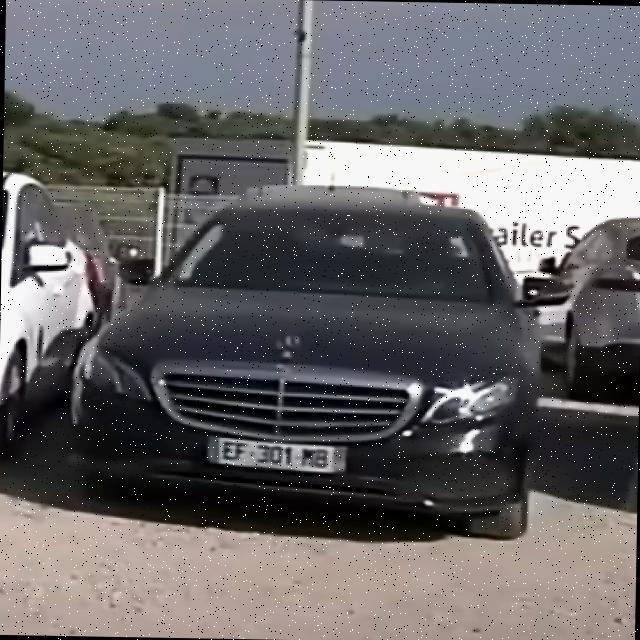Autre: (207, 430, 343, 476)
